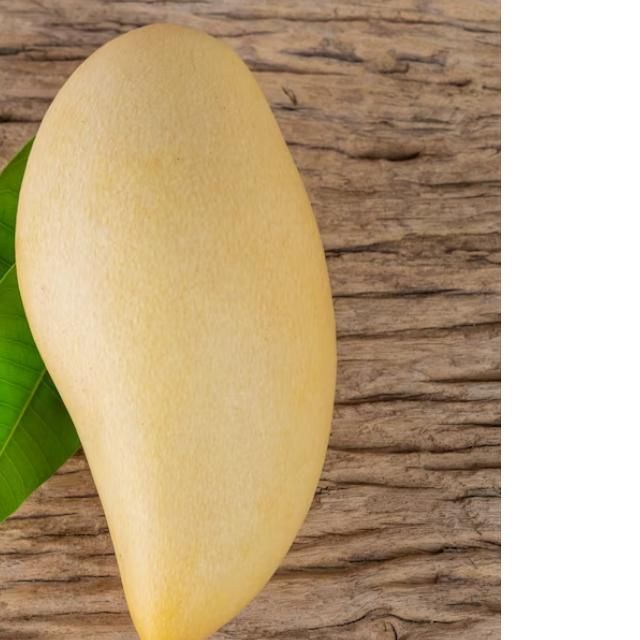mango: (8, 17, 336, 640)
